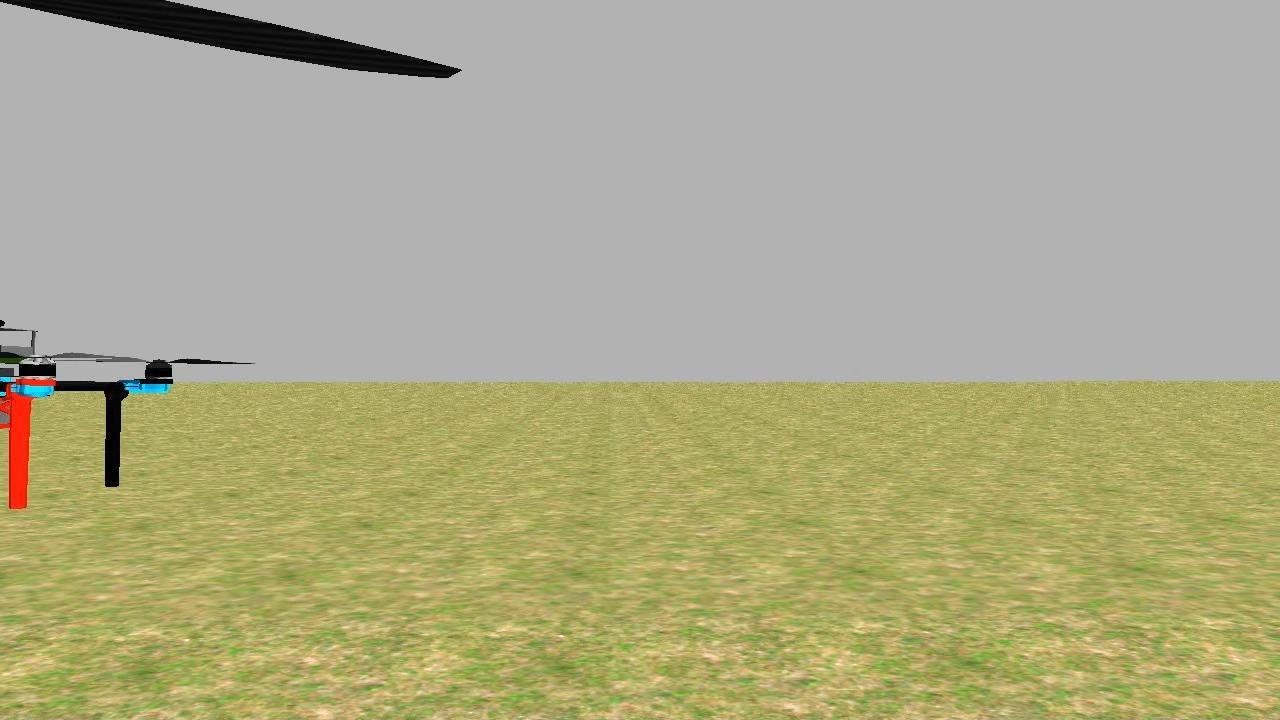UAV: (0, 296, 194, 551)
